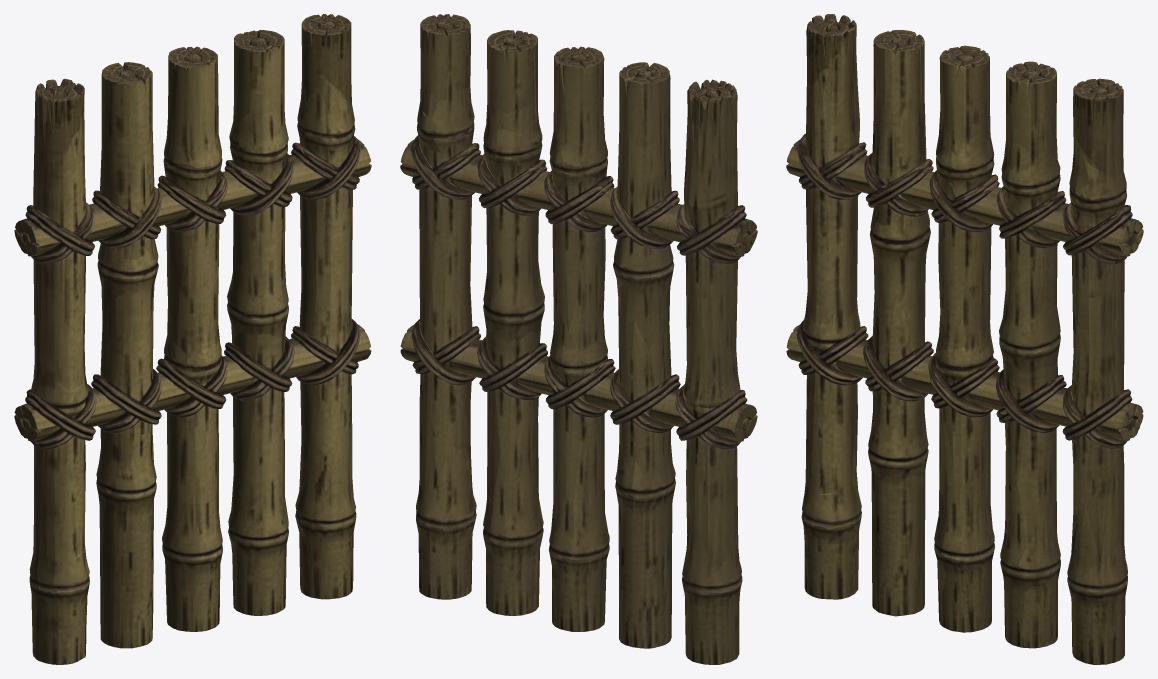
File: CaveGate.fbx
3 renders of one model, left to right at view 1: azimuth 30°, elevation 25°; view 2: azimuth 150°, elevation 25°; view 3: azimuth 330°, elevation 25°, orthographic.
Parts seen in each view (by area): view 1: CaveGate; view 2: CaveGate; view 3: CaveGate.
Boxes of the visible parts, x1,y1,x2,y2 form: CaveGate: (14,14,371,664); CaveGate: (400,14,757,664); CaveGate: (786,14,1143,664).
Size of the model in its own units: 1.24 by 2 by 0.2268.
1 material, 1 textured.
